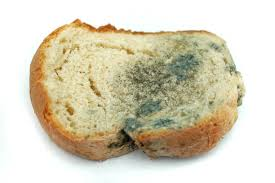mold_bread: (115, 42, 219, 139), (223, 57, 238, 77)
